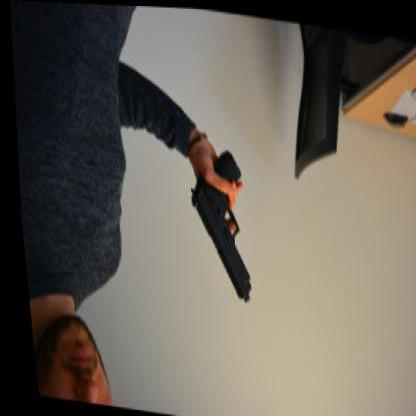pistol: (177, 140, 253, 300)
